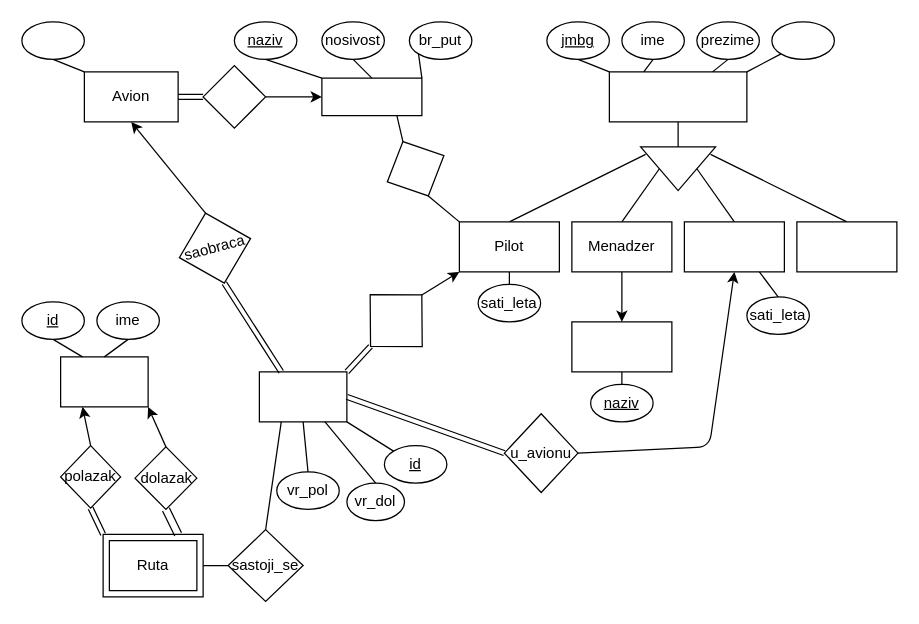
This 919x624 diagram has some shape labels left out. Here are the shapes that lost their labels. From the top down, the centre of each, then its label:
the point at 52,40: reg_br
the point at 802,40: staz
the point at 234,96: pripada
the point at 371,96: Model
the point at 677,96: Zaposleni
the point at 415,168: licenca
the point at 733,246: Osoblje
the point at 846,246: Tehnicar
the point at 395,320: upravlja
the point at 621,346: VSS
the point at 103,381: Grad
the point at 302,396: Let
